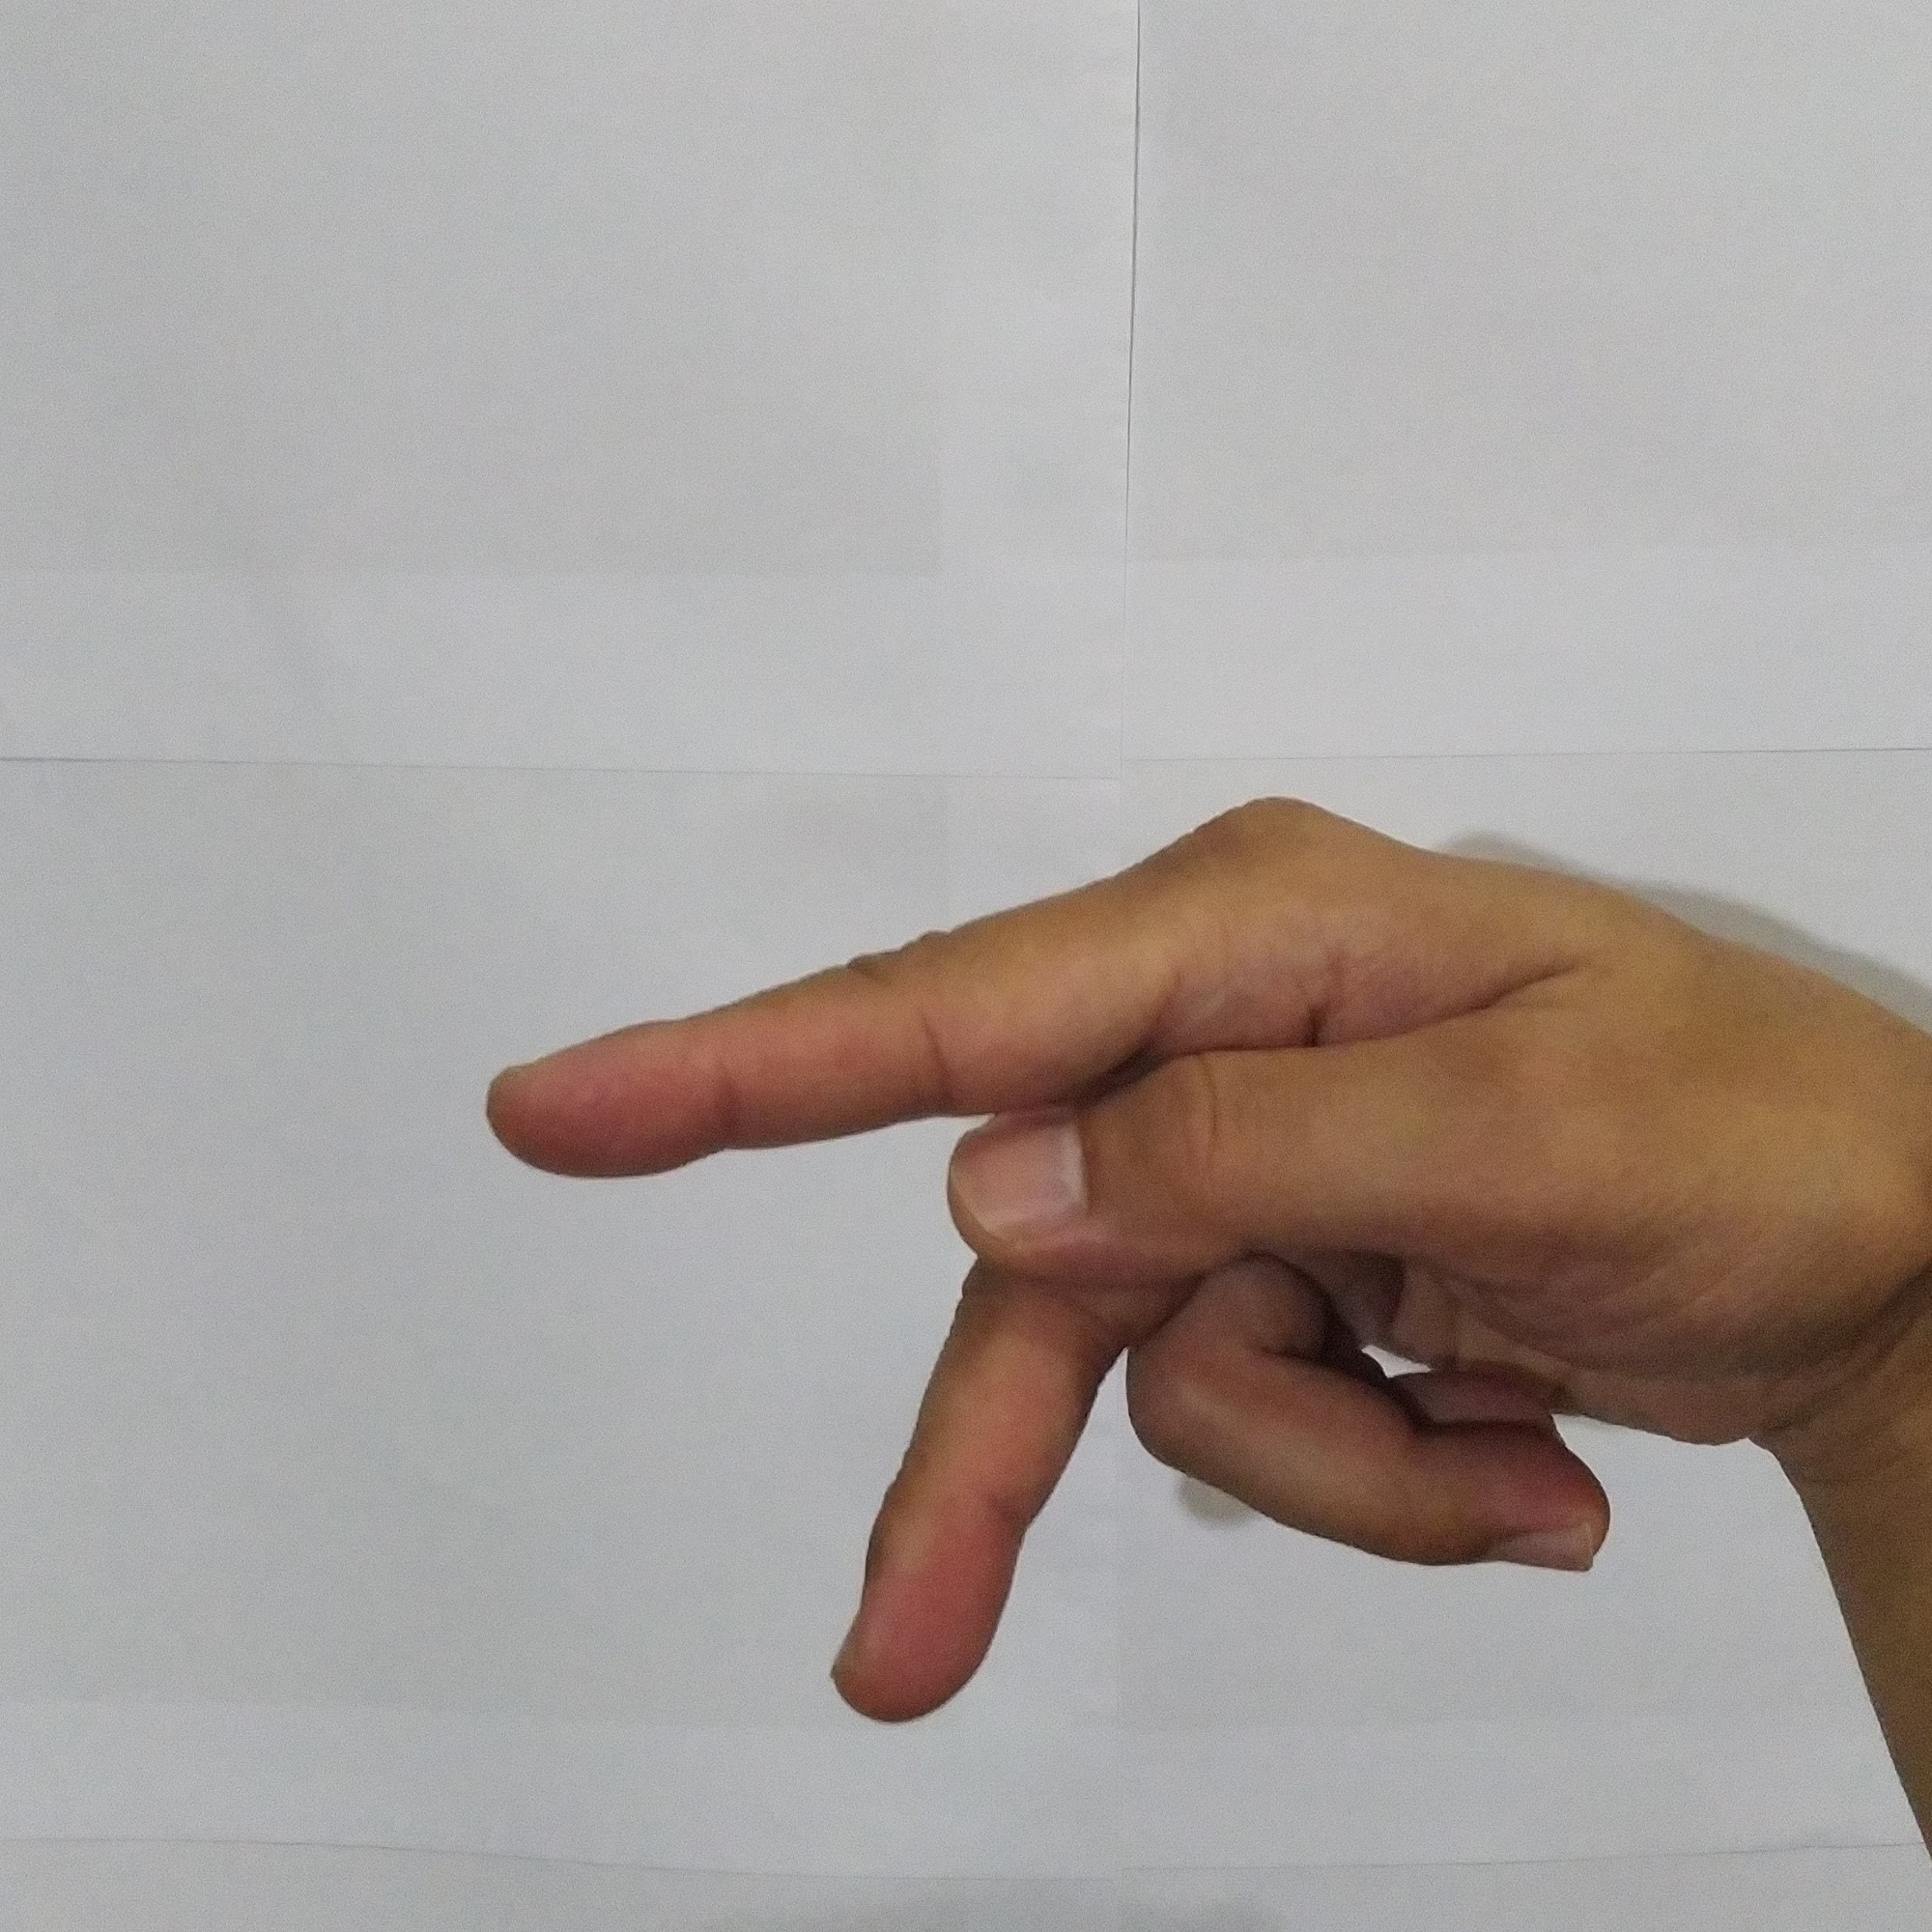P: (465, 775, 1932, 1752)
